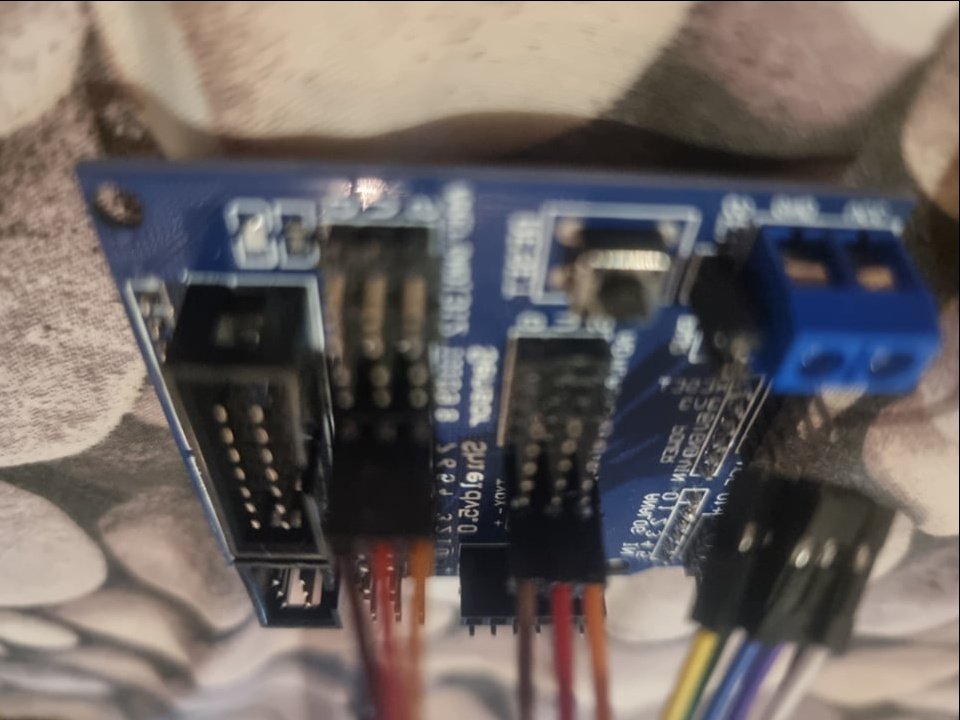5V EXPANSION: (76, 167, 948, 682)
